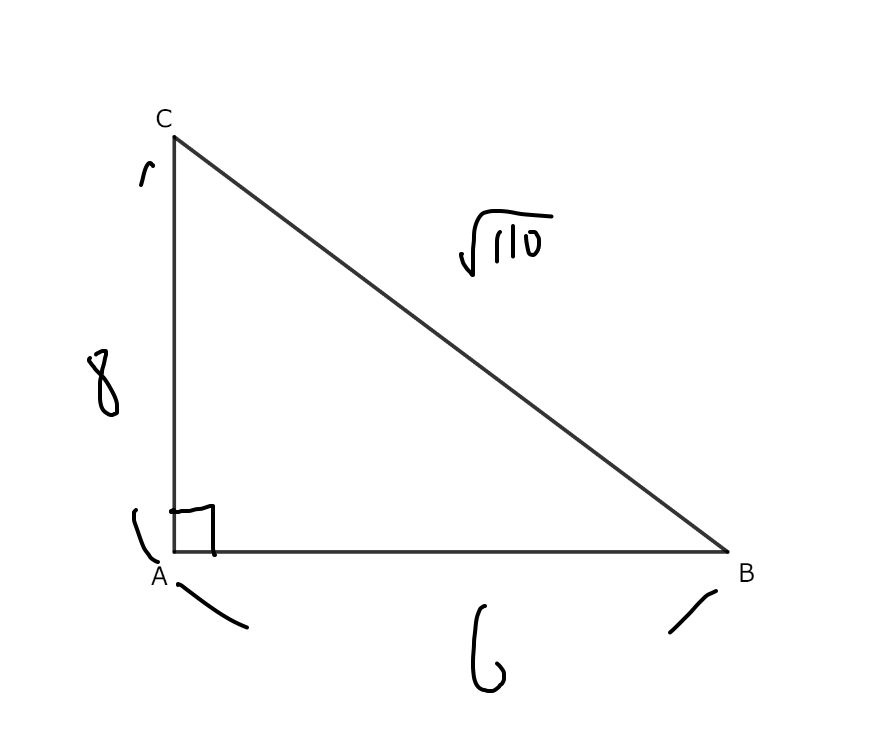Angle_Right: (165, 495, 234, 562)
